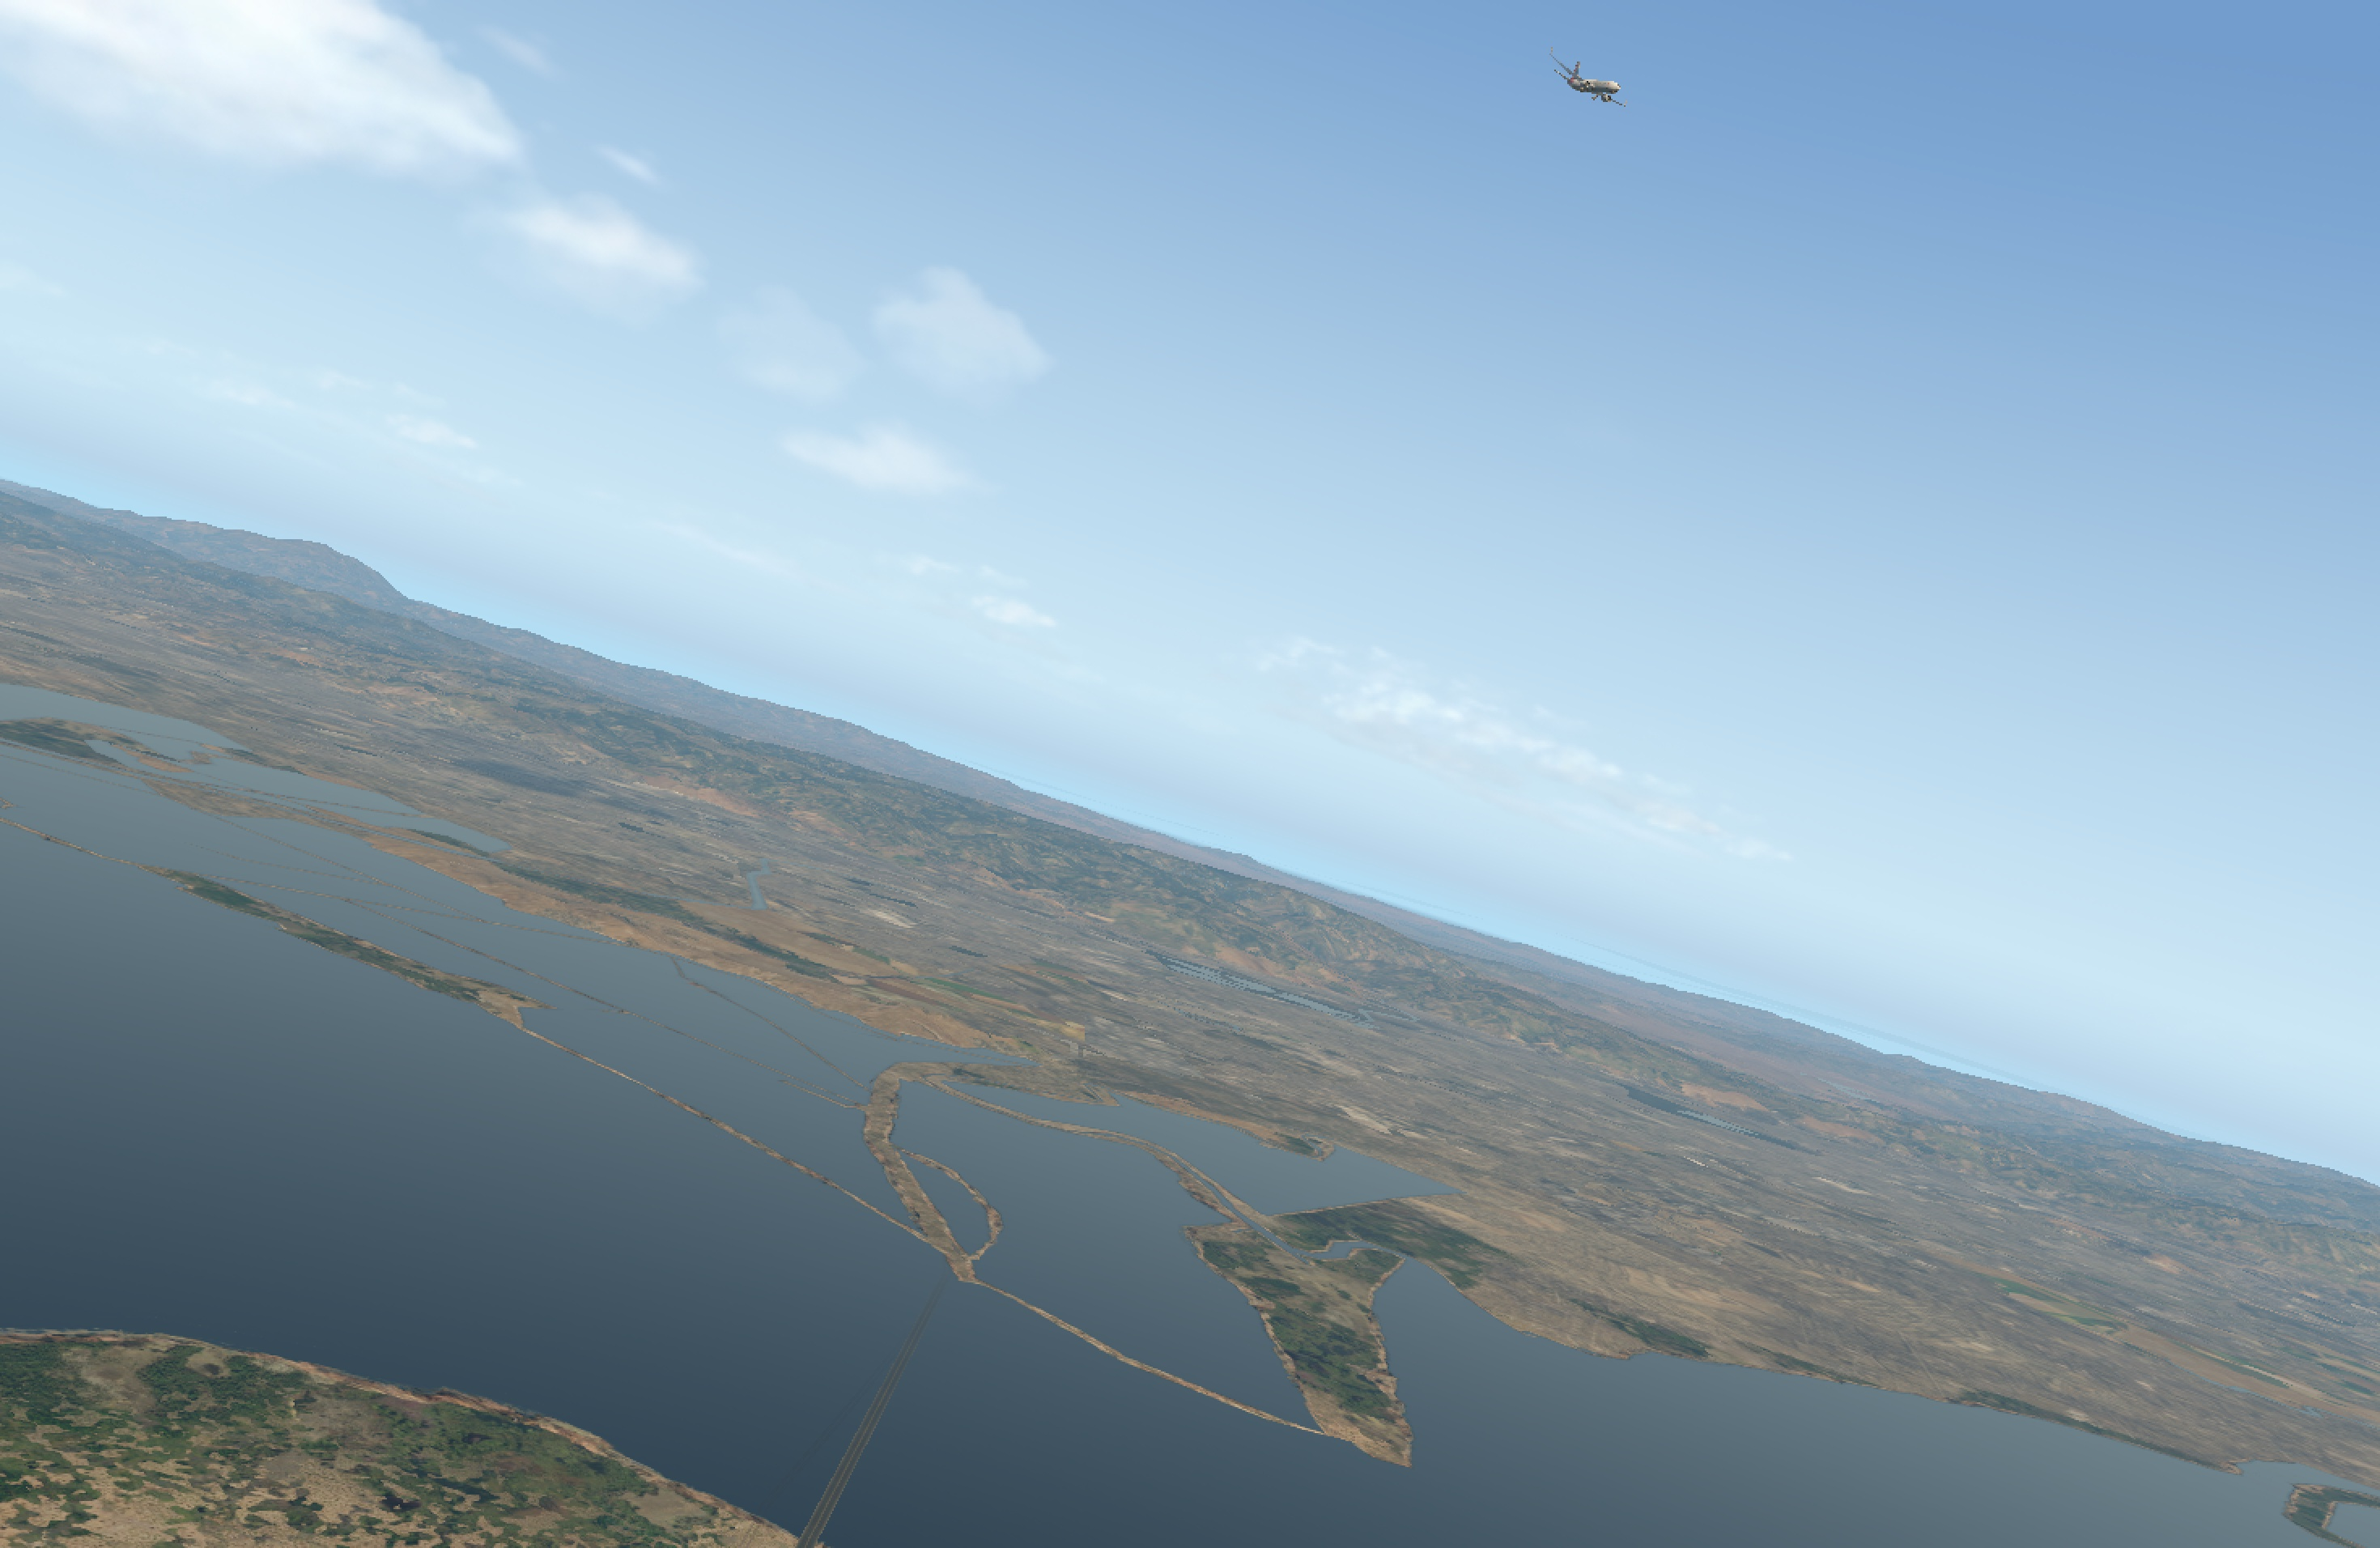aircraft: (1539, 68, 1646, 108)
